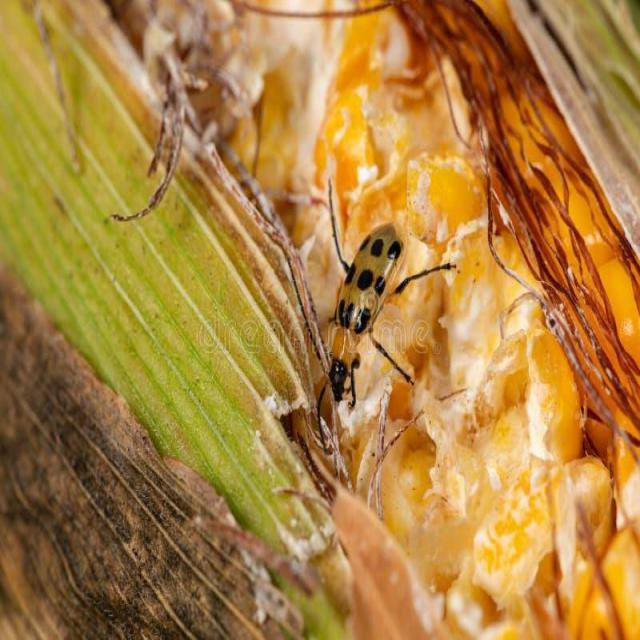gusano_verde: (320, 180, 455, 415)
